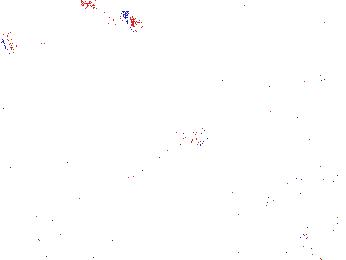glassfish: (114, 126, 216, 204)
red belly glassfish: (305, 75, 320, 96)
redtail glassfish: (71, 1, 145, 40), (1, 32, 20, 54)
